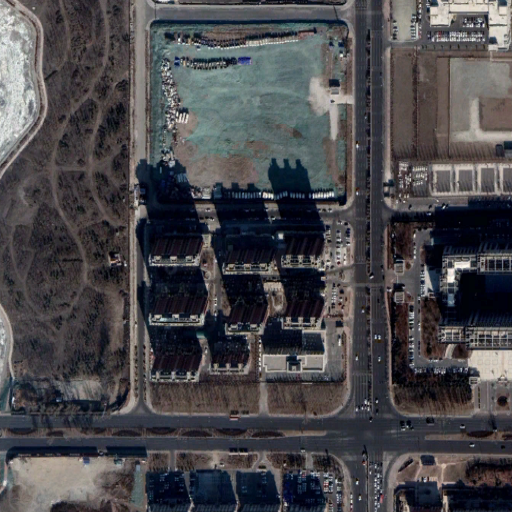cw: (147, 20, 349, 207)
